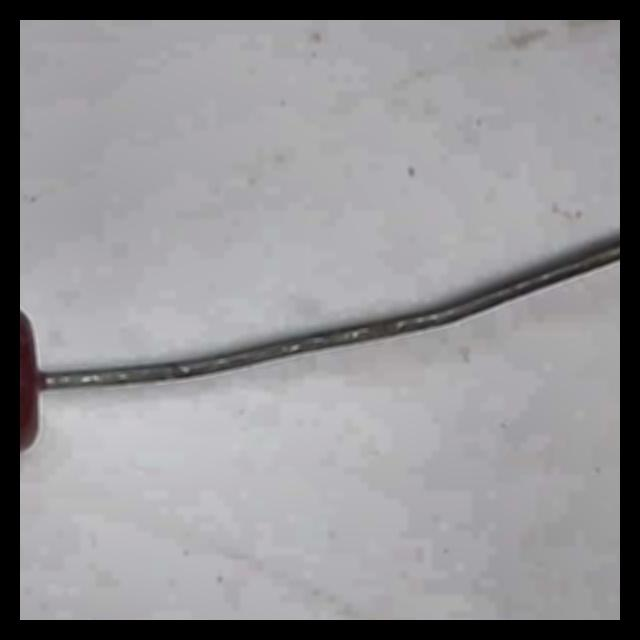Carbon Resistor: (20, 172, 620, 490)
